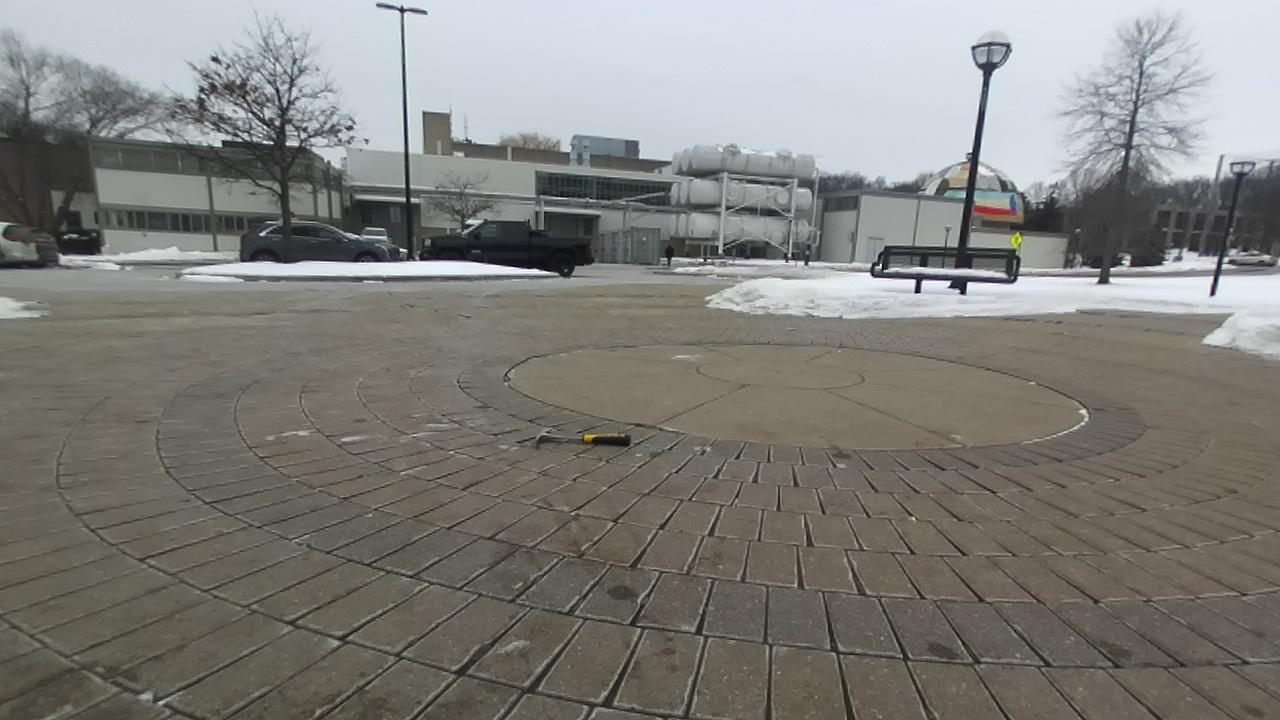pick: (534, 430, 630, 447)
